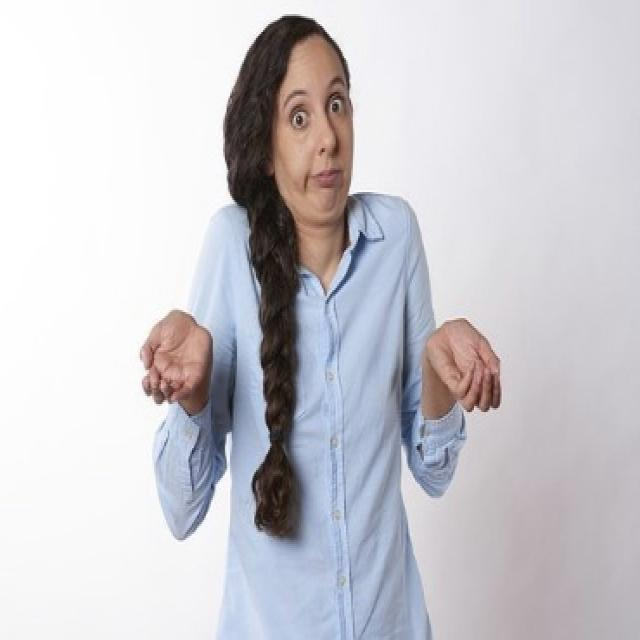adult: (128, 8, 504, 640)
